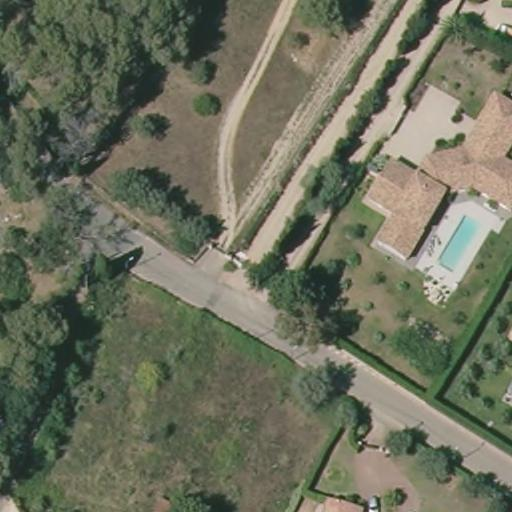pool: (436, 213, 485, 276)
